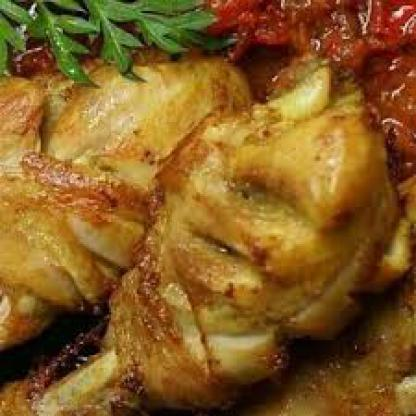ayam_goreng: (0, 70, 413, 415), (2, 63, 251, 349)
